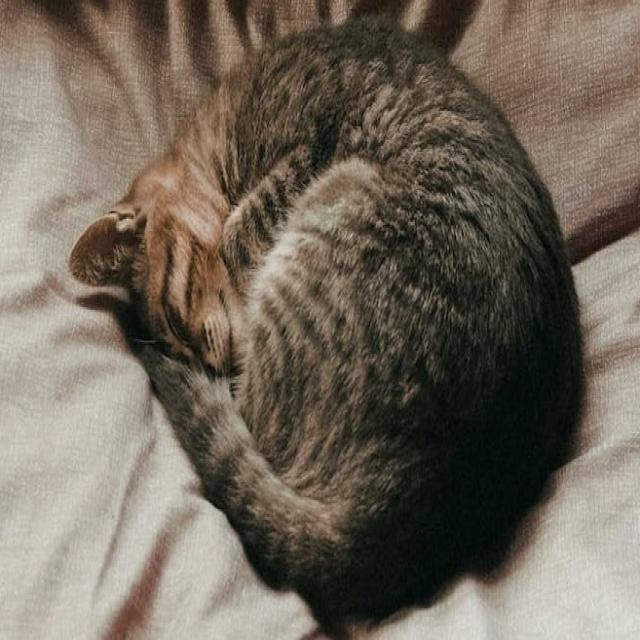cat: (54, 5, 597, 621)
